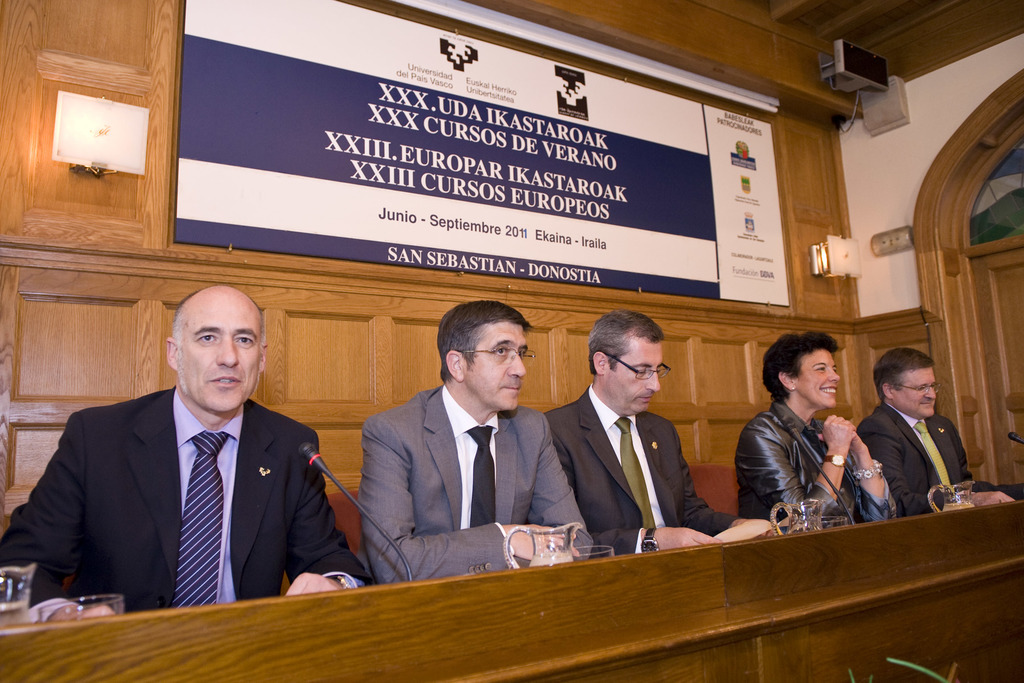Person: (0, 284, 373, 625), (356, 295, 597, 586), (544, 308, 777, 551), (739, 325, 901, 537), (856, 343, 1024, 516)
